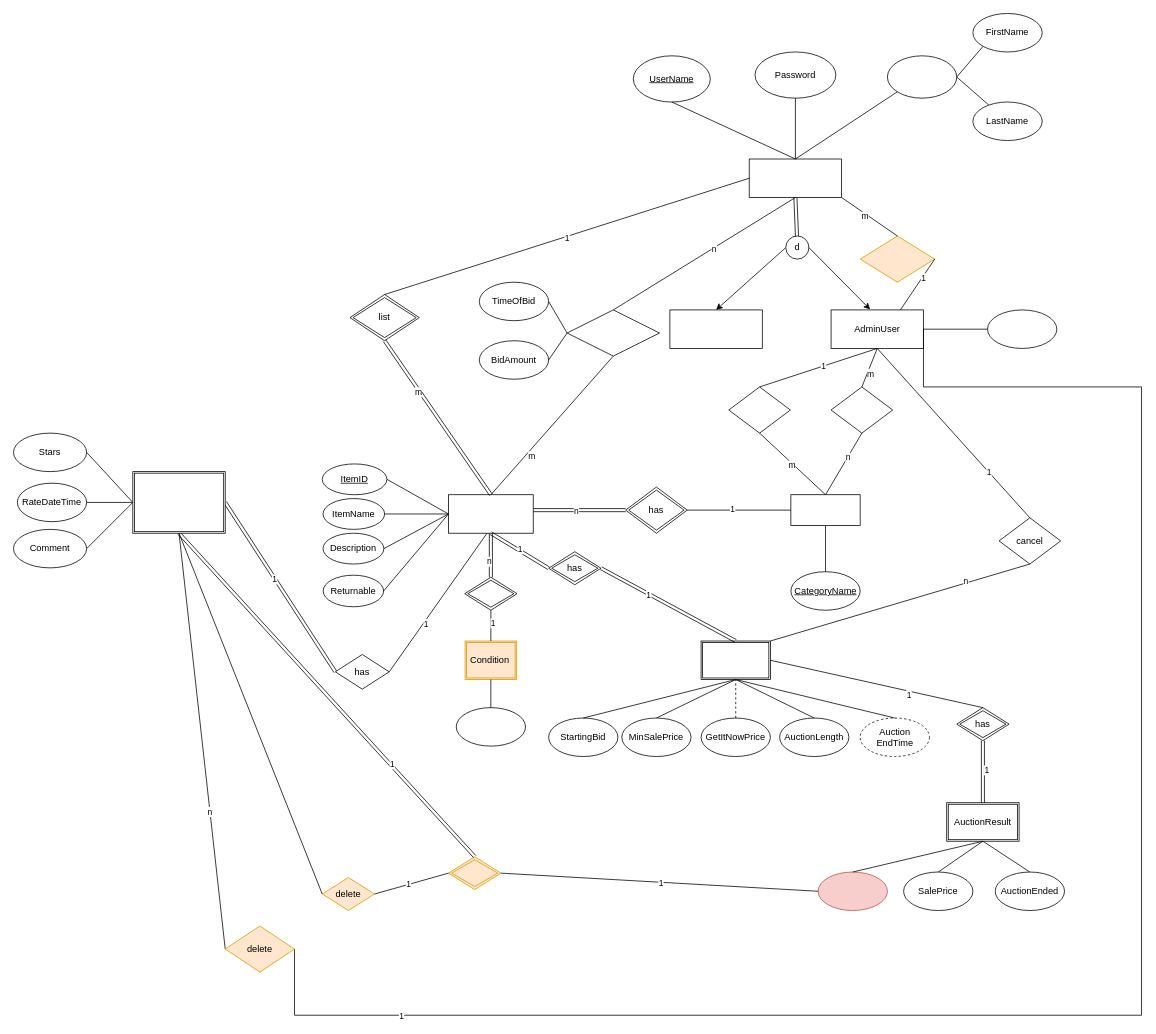
This 1156x1034 diagram has some shape labels left out. The box of each missing label's shape, as (x1, y1, x2, y2) in pixels:
add: (728, 386, 790, 433)
ask: (859, 235, 935, 282)
Auction: (700, 640, 770, 680)
bid: (566, 309, 660, 356)
Category: (790, 494, 860, 526)
change: (830, 386, 893, 433)
ConditionName: (455, 707, 526, 746)
enter: (448, 856, 501, 890)
is: (464, 576, 517, 610)
Item: (448, 494, 533, 533)
ItemRating: (132, 471, 225, 533)
Name: (887, 55, 957, 98)
Position: (987, 309, 1057, 348)
RegularUser: (669, 309, 762, 348)
User: (748, 158, 842, 198)
Winner: (817, 871, 887, 911)
